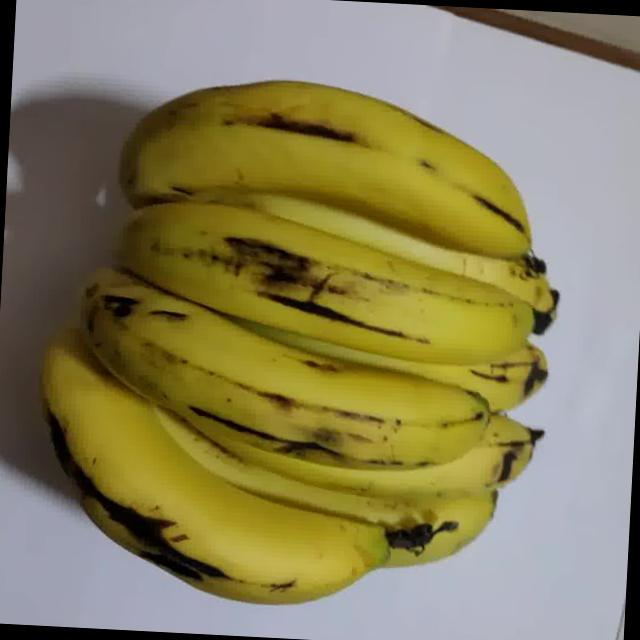banana_pacche: (0, 19, 623, 640)
